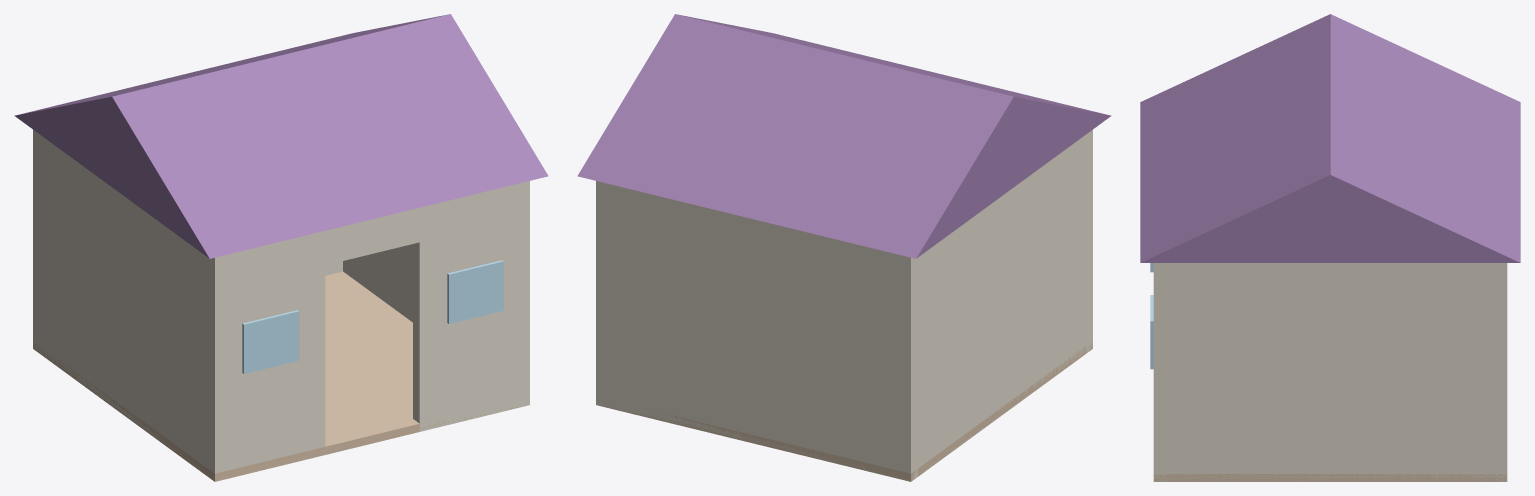
Rendered from biblioteca.glb.
3 renders of one model, left to right at view 1: azimuth 30°, elevation 25°; view 2: azimuth 150°, elevation 25°; view 3: azimuth 270°, elevation 25°, orthographic. The views are drawn at different scales.
Parts seen in each view (by area): view 1: Techo, Pared_izq, Pared_del_a, Pared_del_b, Suelo, Pared_der, Pared_dintel, Ventana, Ventana.001, Pared_tras; view 2: Techo, Pared_tras, Pared_izq, Suelo, Pared_der, Pared_del_a; view 3: Techo, Pared_der, Pared_tras, Suelo, Pared_del_b.
Part boxes in pixels (box(x1,y1,x2,y2)): Techo: box(14, 14, 548, 258); Pared_izq: box(33, 130, 226, 481); Pared_del_a: box(208, 231, 325, 480); Pared_del_b: box(413, 181, 529, 431); Suelo: box(33, 271, 517, 481); Pared_der: box(343, 181, 529, 407); Pared_dintel: box(325, 208, 419, 265); Ventana: box(242, 310, 299, 373); Ventana.001: box(447, 260, 503, 323); Pared_tras: box(33, 130, 342, 348); Techo: box(577, 14, 1111, 258); Pared_tras: box(596, 181, 917, 481); Pared_izq: box(899, 130, 1092, 479); Suelo: box(608, 343, 1092, 481); Pared_der: box(596, 181, 607, 407); Pared_del_a: box(1086, 130, 1092, 353); Techo: box(1140, 14, 1520, 262); Pared_der: box(1153, 263, 1507, 481); Pared_tras: box(1494, 263, 1507, 481); Suelo: box(1153, 474, 1507, 481); Pared_del_b: box(1153, 263, 1166, 481).
Size of the model in its own units: 4.3 by 3.9 by 4.3.
